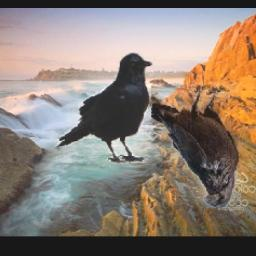Crow: (53, 51, 156, 163), (150, 85, 238, 208)
